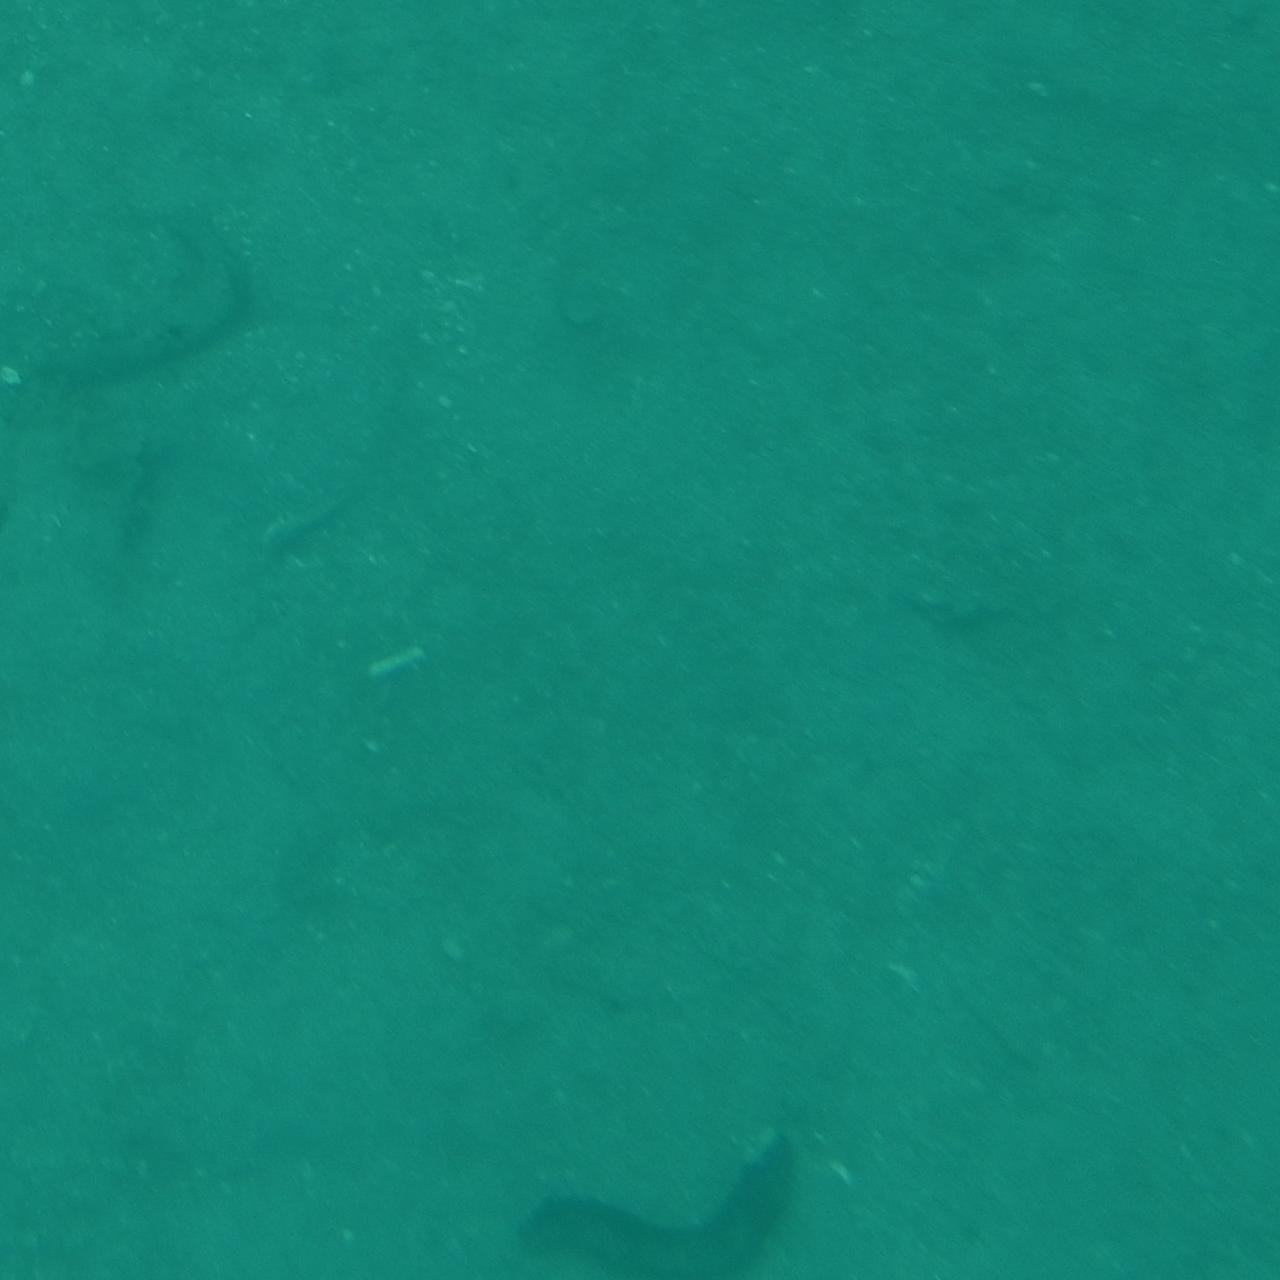Holothuria tubulosa: (468, 1130, 812, 1278)
